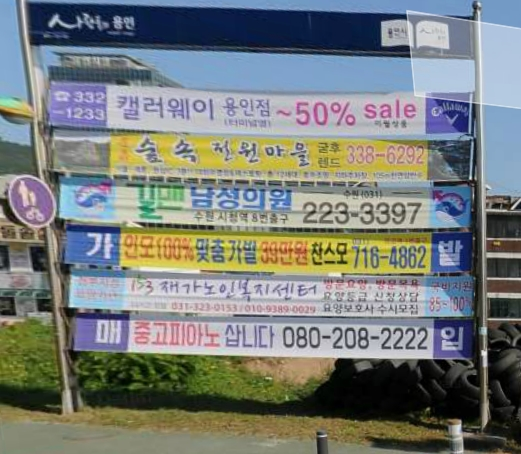banner: (28, 168, 495, 234), (30, 119, 485, 182), (40, 68, 483, 132), (26, 220, 502, 273), (47, 308, 495, 362), (44, 269, 491, 319)
